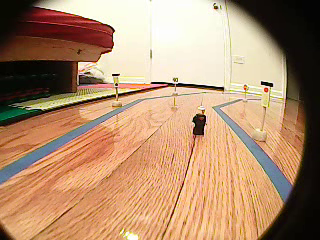Green Traffic Light: (112, 74, 120, 88)
Person: (192, 105, 208, 137)
Red Traffic Light: (260, 81, 273, 108)
